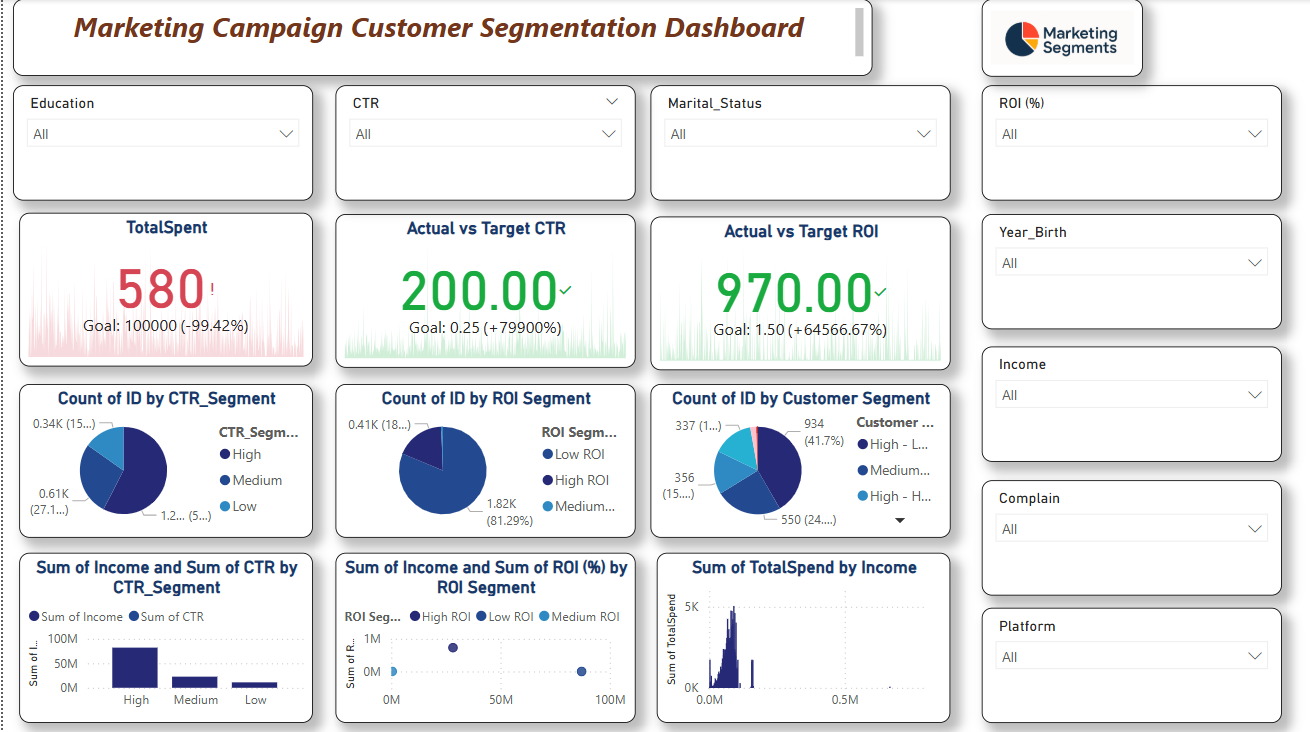

The dashboard page shown, as its layout file describes it:
{"tool":"powerbi","page":{"name":"Page 1","canvas":[1280,720],"ordinal":0},"visuals":[{"type":"textbox","box":[9.6,0,841.2,75.5],"z":0},{"type":"slicer","fields":{"Values":["Sheet1.Education"]},"box":[9.8,84.4,293.5,112.5],"z":1000},{"type":"kpi","title":" TotalSpent ","fields":{"Indicator":["Sum(Sheet1.TotalSpend)"],"TrendLine":["Sheet1.Dt_Customer"],"Goal":["Sheet1.Target Spend"]},"box":[15.9,209.1,287.4,150.4],"z":2000},{"type":"kpi","title":" Actual vs Target CTR","fields":{"TrendLine":["Sheet1.Dt_Customer"],"Goal":["Sheet1.Target CTR"],"Indicator":["Sum(Sheet1.CTR)"]},"box":[325.3,210.3,293.5,150.4],"z":3000},{"type":"kpi","title":" Actual vs Target ROI","fields":{"TrendLine":["Sheet1.Dt_Customer"],"Indicator":["Sum(Sheet1.ROI (%))"],"Goal":["Sheet1.Target ROI"]},"box":[633.4,212.8,293.5,150.4],"z":4000},{"type":"pieChart","fields":{"Category":["Sheet1.CTR_Segment"],"Y":["CountNonNull(Sheet1.ID)"]},"box":[15.9,376.6,287.4,150.4],"z":5000},{"type":"pieChart","fields":{"Y":["CountNonNull(Sheet1.ID)"],"Category":["Sheet1.ROI Segment"]},"box":[325.3,376.6,293.5,150.4],"z":6000},{"type":"pieChart","fields":{"Y":["CountNonNull(Sheet1.ID)"],"Category":["Sheet1.Customer Segment"]},"box":[633.4,376.6,293.5,150.4],"z":7000},{"type":"columnChart","fields":{"Y":["Sum(Sheet1.Income)","Sum(Sheet1.CTR)"],"Category":["Sheet1.CTR_Segment"]},"box":[15.9,541.7,287.4,166.3],"z":8000},{"type":"scatterChart","fields":{"X":["Sum(Sheet1.Income)"],"Y":["Sum(Sheet1.ROI (%))"],"Series":["Sheet1.ROI Segment"]},"box":[325.3,541.7,293.5,166.3],"z":9000},{"type":"clusteredColumnChart","fields":{"Category":["Sheet1.Income"],"Y":["Sum(Sheet1.TotalSpend)"]},"box":[639.5,541.7,287.4,166.3],"z":10000},{"type":"slicer","fields":{"Values":["Sheet1.ROI (%)"]},"box":[957.5,84.4,293.5,112.5],"z":11000},{"type":"slicer","fields":{"Values":["Sheet1.Marital_Status"]},"box":[633.4,84.4,293.5,112.5],"z":12000},{"type":"slicer","fields":{"Values":["Sheet1.CTR"]},"box":[325.3,84.4,293.5,112.5],"z":13000},{"type":"slicer","fields":{"Values":["Sheet1.Year_Birth"]},"box":[957.5,210.3,293.5,112.5],"z":14000},{"type":"slicer","fields":{"Values":["Sheet1.Income"]},"box":[957.5,339.9,293.5,112.5],"z":15000},{"type":"slicer","fields":{"Values":["Sheet1.Complain"]},"box":[957.5,470.8,293.5,112.5],"z":16000},{"type":"slicer","fields":{"Values":["Sheet1 (2).Platform"]},"box":[957.5,595.5,293.5,112.5],"z":17000},{"type":"image","box":[957.5,0,157.7,75.8],"z":17001},{"type":"tableEx","box":[100,100,300,300],"z":17002}]}

Visuals, with their boxes in screenshot pixels (x1, y1, x2, y2), scaled from the page's 1280x720 canvas onto the 1310x732 screenshot:
textbox: crop(10, 0, 871, 77)
slicer - Sheet1.Education: crop(10, 86, 310, 200)
" TotalSpent " kpi: crop(16, 213, 310, 365)
" Actual vs Target CTR" kpi: crop(333, 214, 633, 367)
" Actual vs Target ROI" kpi: crop(648, 216, 949, 369)
pieChart - Sheet1.CTR_Segment x CountNonNull(Sheet1.ID): crop(16, 383, 310, 536)
pieChart - CountNonNull(Sheet1.ID) x Sheet1.ROI Segment: crop(333, 383, 633, 536)
pieChart - CountNonNull(Sheet1.ID) x Sheet1.Customer Segment: crop(648, 383, 949, 536)
columnChart - Sum(Sheet1.Income) x Sum(Sheet1.CTR): crop(16, 551, 310, 720)
scatterChart - Sum(Sheet1.Income) x Sum(Sheet1.ROI (%)): crop(333, 551, 633, 720)
clusteredColumnChart - Sheet1.Income x Sum(Sheet1.TotalSpend): crop(654, 551, 949, 720)
slicer - Sheet1.ROI (%): crop(980, 86, 1280, 200)
slicer - Sheet1.Marital_Status: crop(648, 86, 949, 200)
slicer - Sheet1.CTR: crop(333, 86, 633, 200)
slicer - Sheet1.Year_Birth: crop(980, 214, 1280, 328)
slicer - Sheet1.Income: crop(980, 346, 1280, 460)
slicer - Sheet1.Complain: crop(980, 479, 1280, 593)
slicer - Sheet1 (2).Platform: crop(980, 605, 1280, 720)
image: crop(980, 0, 1141, 77)
tableEx: crop(102, 102, 409, 407)
